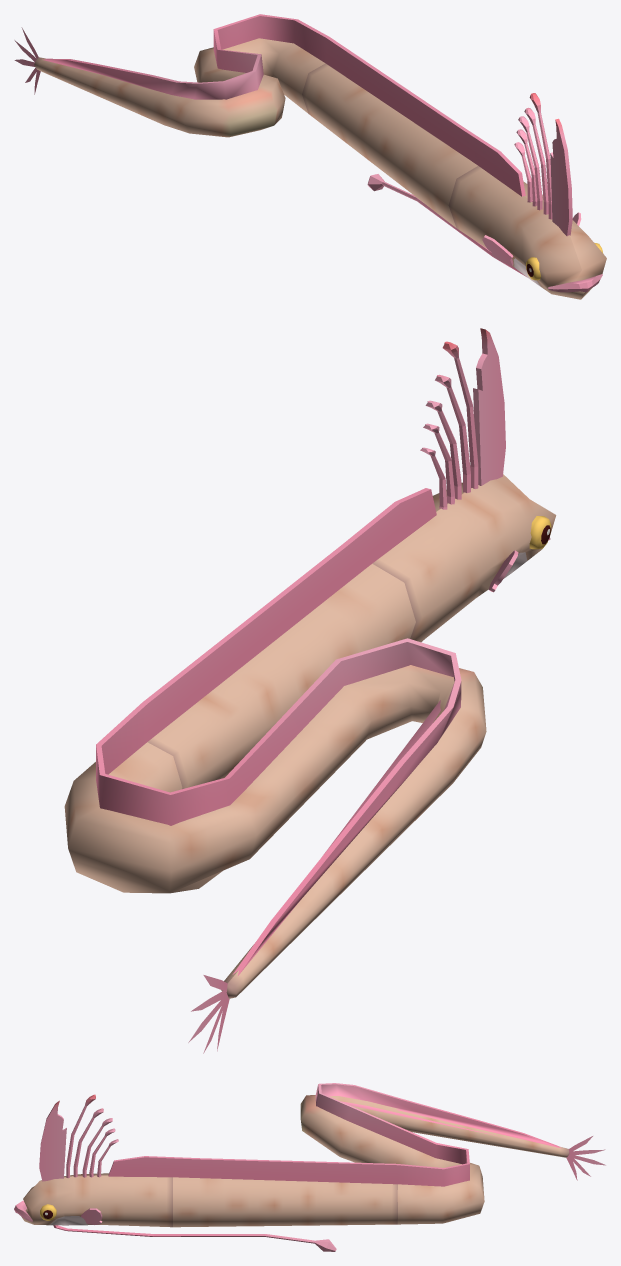
3 renders of one model, top to bottom at view 1: azimuth 30°, elevation 25°; view 2: azimuth 150°, elevation 25°; view 3: azimuth 270°, elevation 25°, orthographic. The views are drawn at different scales.
Parts seen in each view (by area): view 1: Fish_OarFish; view 2: Fish_OarFish; view 3: Fish_OarFish.
Boxes of the visible parts, x1,y1,x2,y2 form: Fish_OarFish: [14, 14, 606, 299]; Fish_OarFish: [64, 328, 556, 1053]; Fish_OarFish: [14, 1083, 605, 1251].
Size of the model in its own units: 64.48 by 54.76 by 188.
